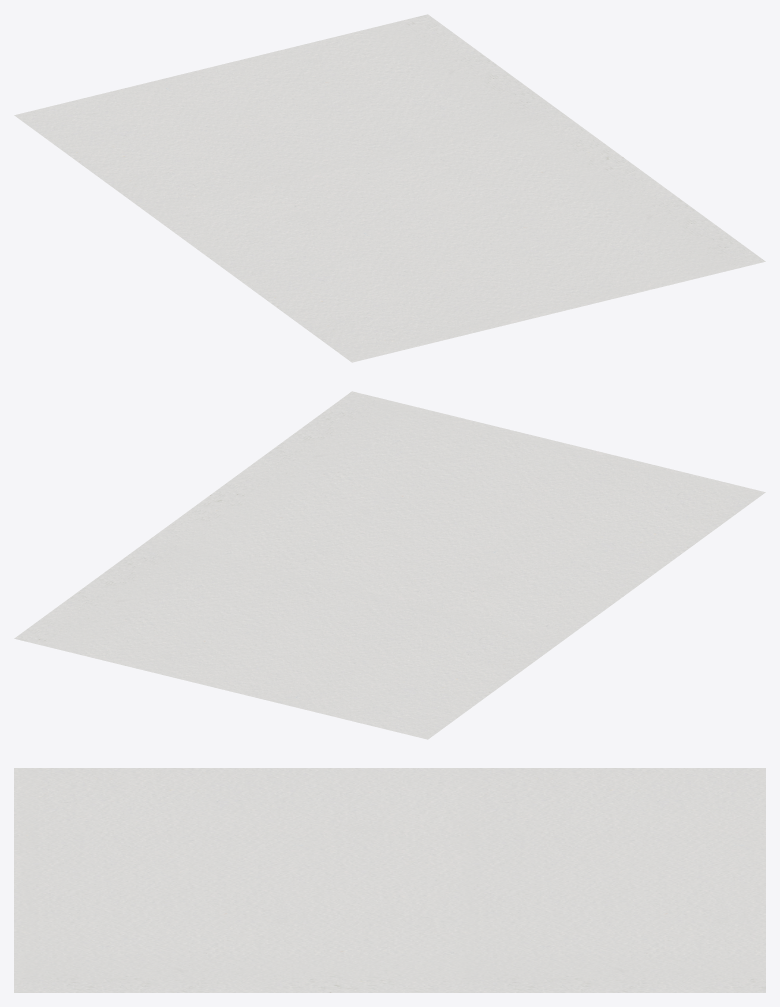
File: paper.glb
3 renders of one model, top to bottom at view 1: azimuth 30°, elevation 25°; view 2: azimuth 150°, elevation 25°; view 3: azimuth 270°, elevation 25°, orthographic. The views are drawn at different scales.
Visible parts, largest first — view 1: Page 1; view 2: Page 1; view 3: Page 1.
Part boxes in pixels (box(x1,y1,x2,y2)): Page 1: box(14, 14, 765, 362); Page 1: box(14, 391, 765, 739); Page 1: box(14, 768, 765, 992).
Bounding box in the file's own units: 0.42 × 0 × 0.594.
Materials: 1 (1 with a texture image).
